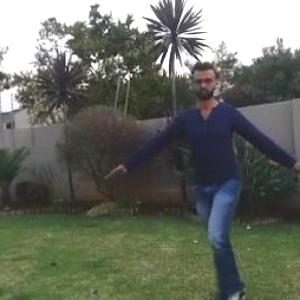land: (143, 72, 289, 252)
